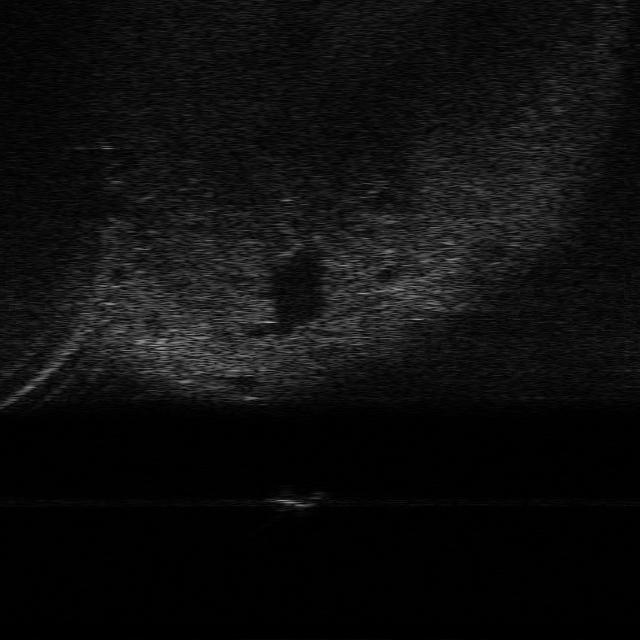cube: (265, 484, 327, 510)
